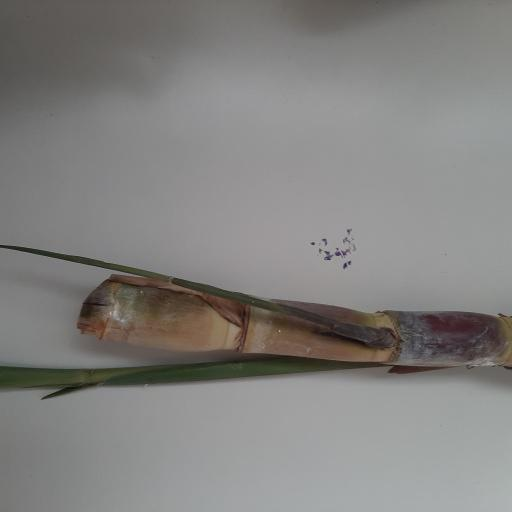Sprouted_Bud: (338, 322, 397, 348)
